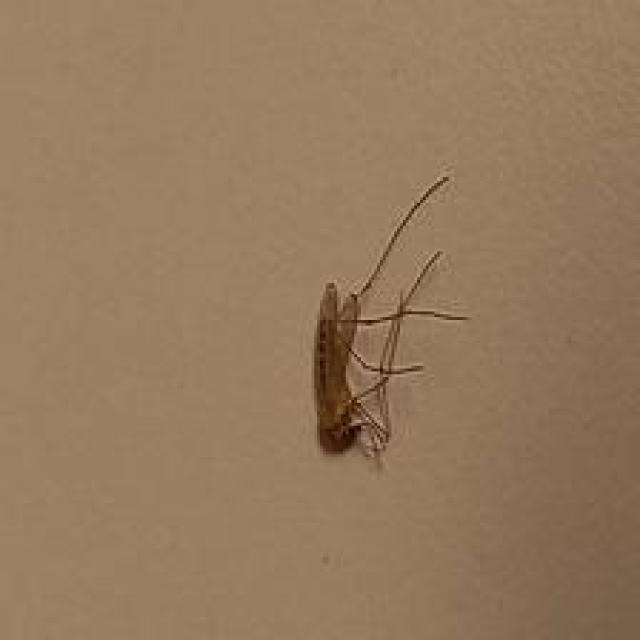Culex: (310, 174, 470, 466)
